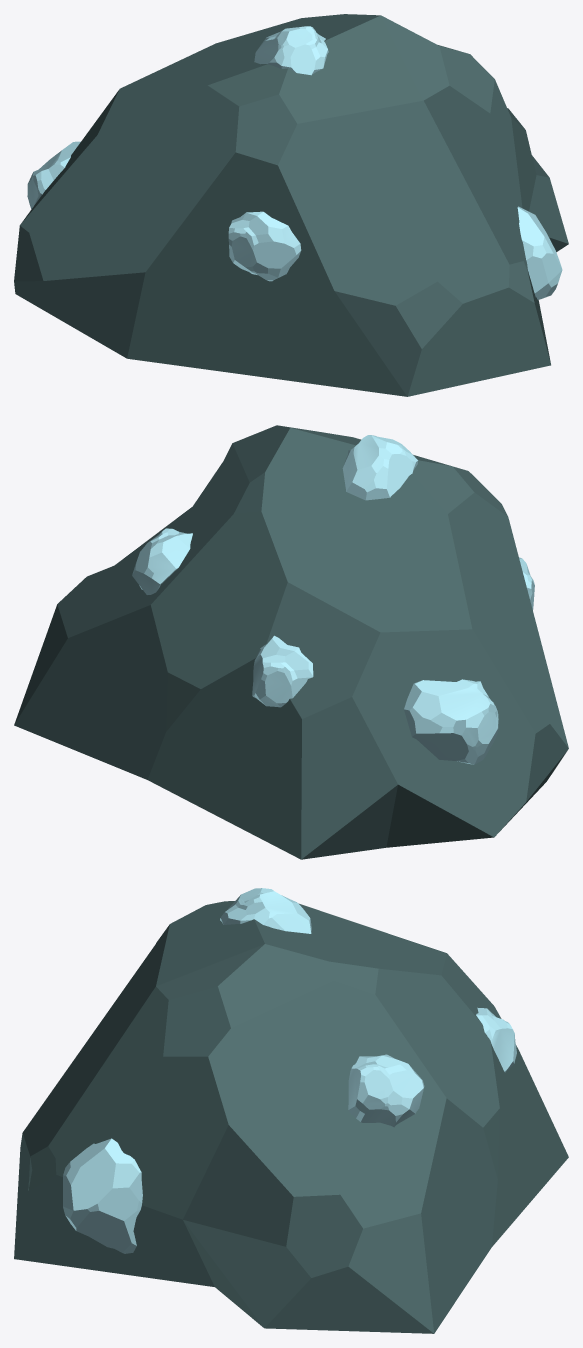
The model's file is Diamond4.fbx.
3 views of the same model, one above another, from view 1: azimuth 30°, elevation 25°; view 2: azimuth 150°, elevation 25°; view 3: azimuth 270°, elevation 25° (orthographic). The views are drawn at different scales.
Parts seen in each view (by area): view 1: Rock3, Nodes.003; view 2: Rock3, Nodes.003; view 3: Rock3, Nodes.003.
Part boxes in pixels (x1,y1,x2,y2): Rock3: (14, 14, 568, 396); Nodes.003: (27, 26, 562, 299); Rock3: (14, 425, 568, 859); Nodes.003: (132, 435, 534, 764); Rock3: (14, 901, 568, 1333); Nodes.003: (63, 888, 516, 1253).
Size of the model in its own units: 188 by 112 by 174.
